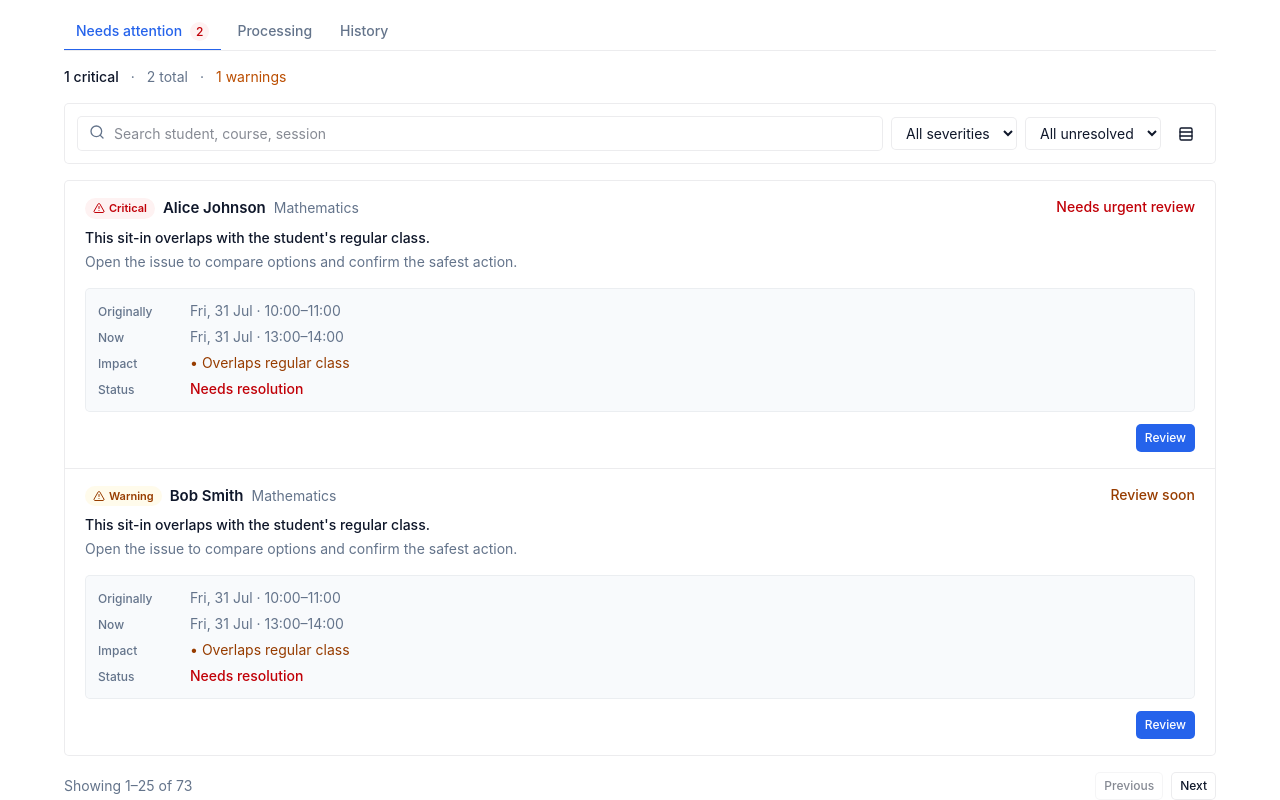
Test: SessionChanges queue view › renders queue pagination controls and updates the offset in the URL
The width and height of the screenshot is (1280, 800).
(page scrolled)
Expected: the text "Showing 1–25 of 73" is shown, [64,776,192,796]
Expected: the button "Previous" is disabled, [1095,772,1163,799]
Click the button "Next" at (1194,786), box [1171,772,1216,799]
(page scrolled)
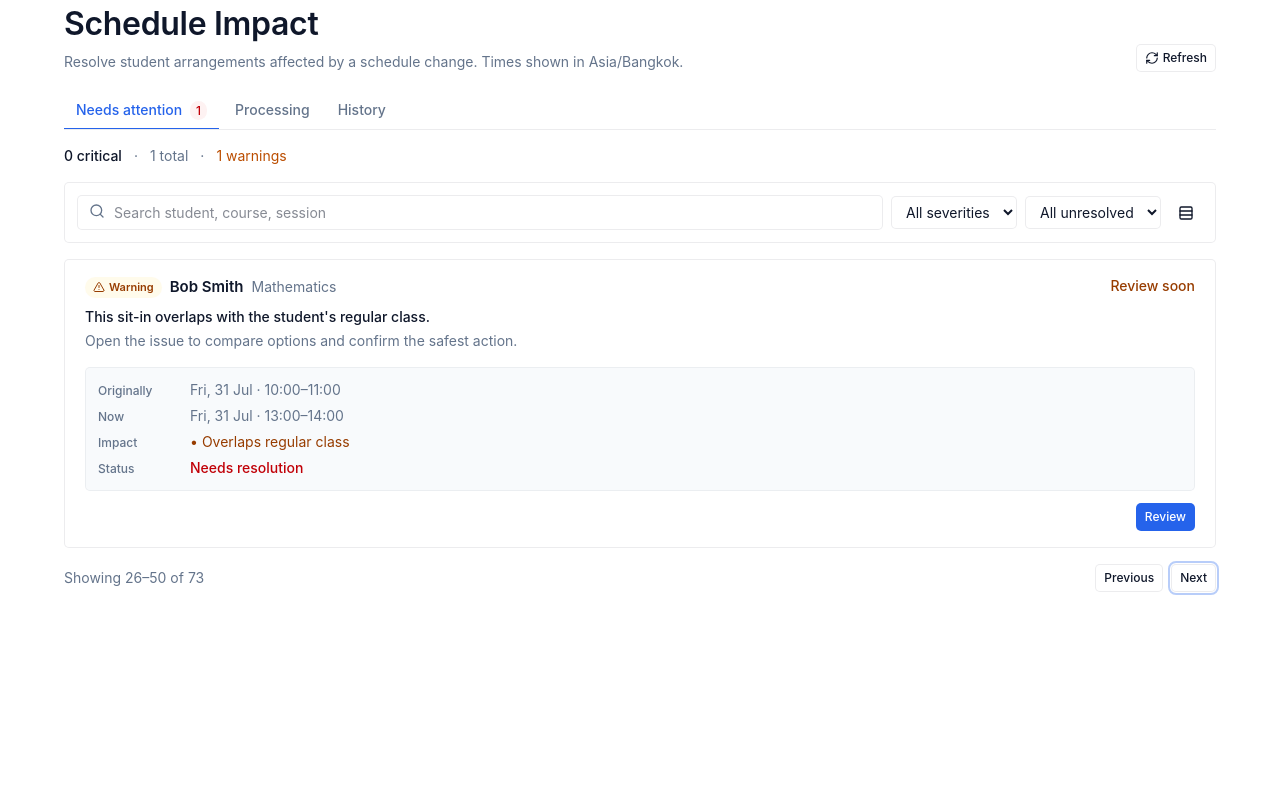
Expected: the text "Showing 26–50 of 73" is shown, [64,568,204,588]
Expected: the button "Previous" is enabled
Click the button "Previous" at (1129,578), box [1095,564,1163,592]
(page scrolled)
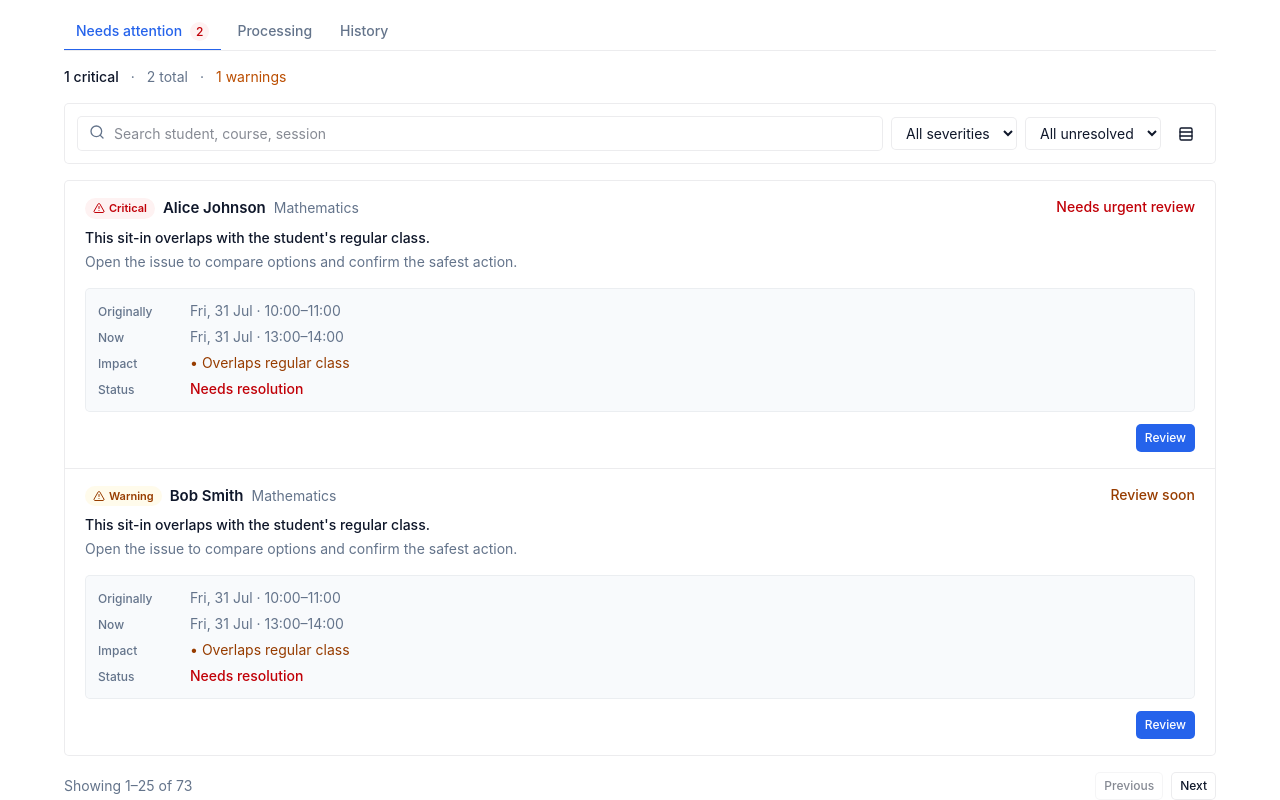
Expected: the text "Showing 1–25 of 73" is shown, [64,776,192,796]
